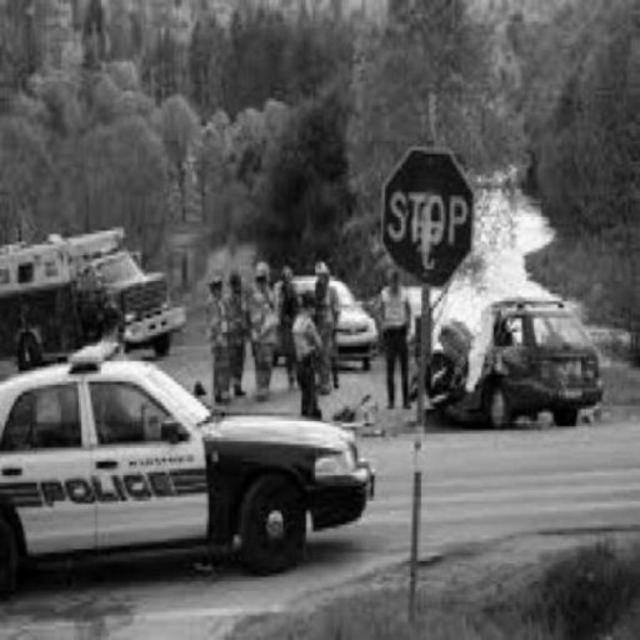accident: (411, 261, 611, 427)
person: (376, 264, 420, 410), (288, 299, 343, 410), (199, 266, 243, 397), (243, 264, 277, 402), (267, 262, 301, 393)
vehicle: (5, 365, 363, 591), (4, 227, 184, 371)
